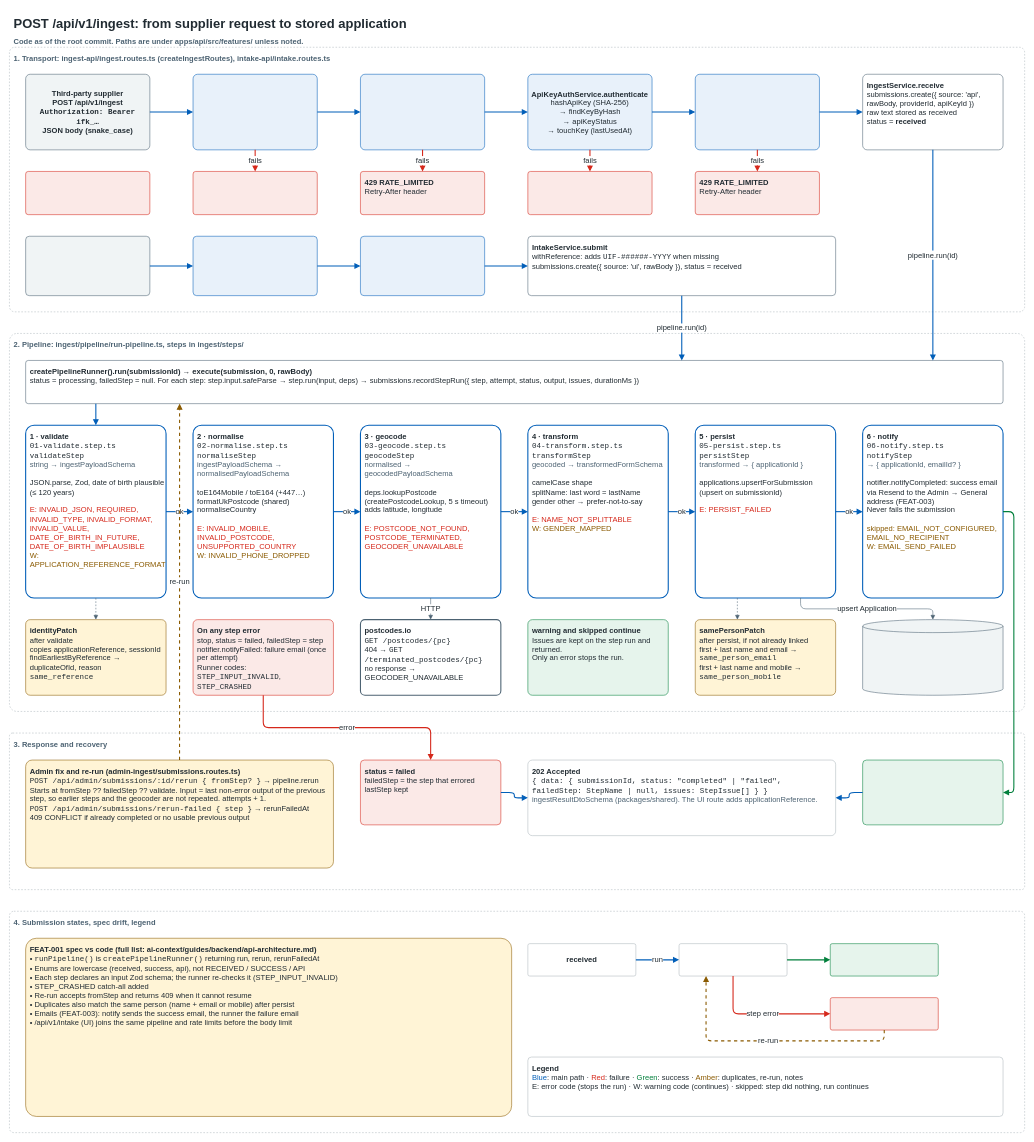
Image size: 1034x1142. Some labels were removed from this diagram. The shapes that lost their labels are listed below. From the top down, each one's centre as x and y in pixels, then its label:
At (x=255, y=112): "bodyLimit 64 KB MAX_INGEST_BODY_BYTES".
At (x=422, y=112): "rateLimit(ipLimiter) ip:<ip> 20 requests / 60 s".
At (x=757, y=112): "rateLimit(keyLimiter) key:<apiKeyId> 60 requests / 60 s".
At (x=87, y=193): "503 DATABASE_UNAVAILABLE no DATABASE_URL: route not mounted".
At (x=255, y=193): "413 PAYLOAD_TOO_LARGE".
At (x=589, y=193): "401 UNAUTHENTICATED | API_KEY_REVOKED | API_KEY_EXPIRED".
At (x=87, y=266): "Patient web app POST /api/v1/intake no key (FEAT-002)".
At (x=255, y=266): "rateLimit(intakeIpLimiter) 10 / 60 s, runs first same 429".
At (x=422, y=266): "bodyLimit 64 KB same 413".
At (x=932, y=657): "PostgreSQL IngestSubmission IngestStepRun (one per attempt) Application".
At (x=932, y=792): "status = completed failedStep = null".
At (x=733, y=959): "processing".
At (x=884, y=959): "completed".
At (x=884, y=1013): "failed".
